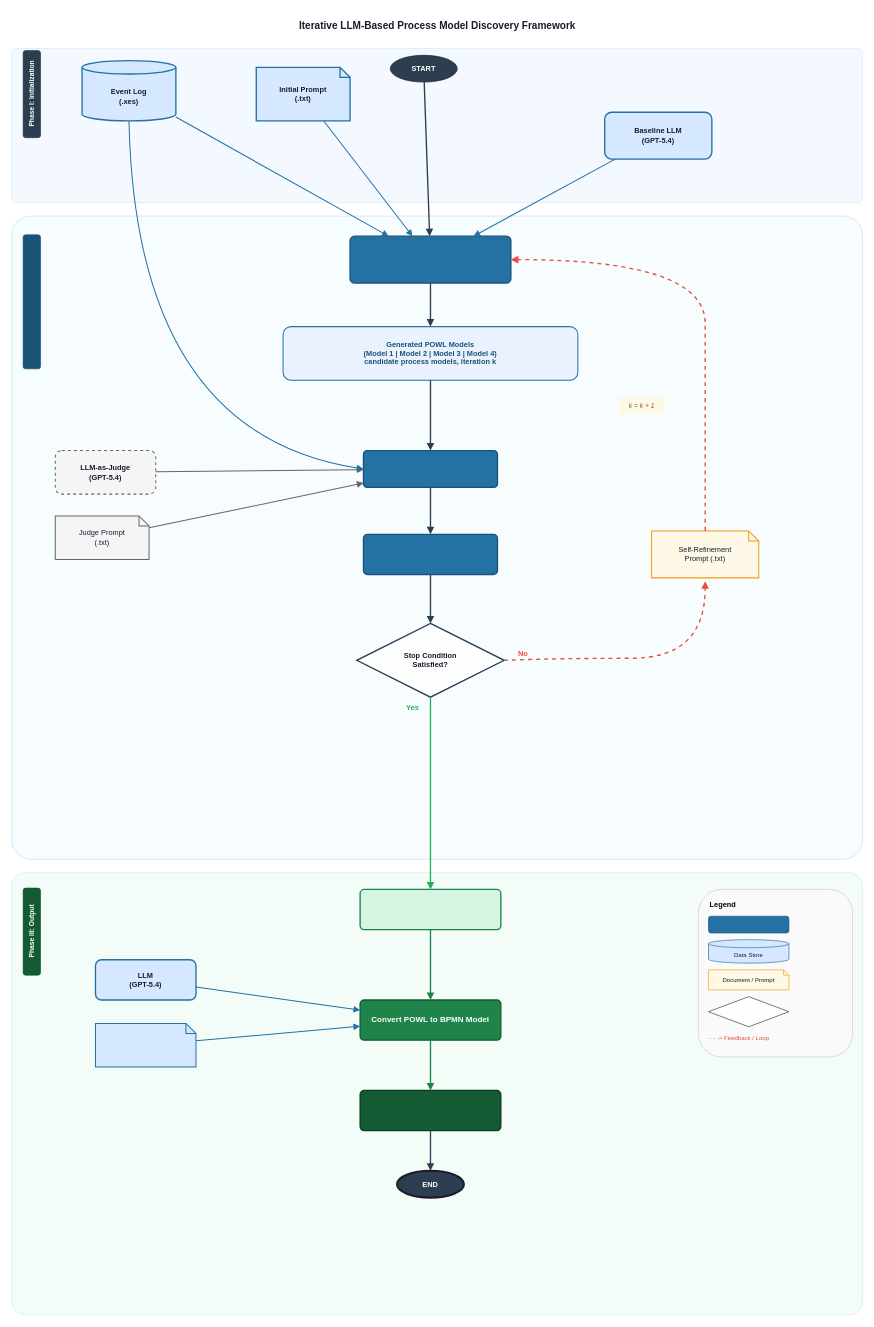
This 874x1327 diagram has some shape labels left out. The shapes that lost their labels are listed below. From the top down, each one's centre as x and y in pixels, then its label:
the point at 430,259: Generate Candidate POWL Models (n = 4)
the point at 31,301: Phase II: Iterative Refinement
the point at 430,469: Model Evaluation
the point at 430,554: Select Best POWL Model
the point at 430,909: Final Best POWL Model
the point at 748,924: Process Step
the point at 748,1011: Decision
the point at 145,1045: BPMN Creation Prompt (.txt)
the point at 430,1110: Deploy on Process Server
